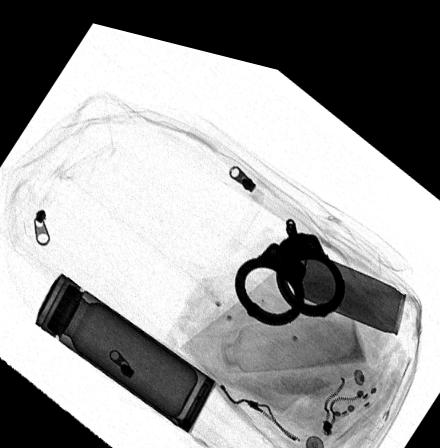HandCuffs: (234, 204, 346, 312)
